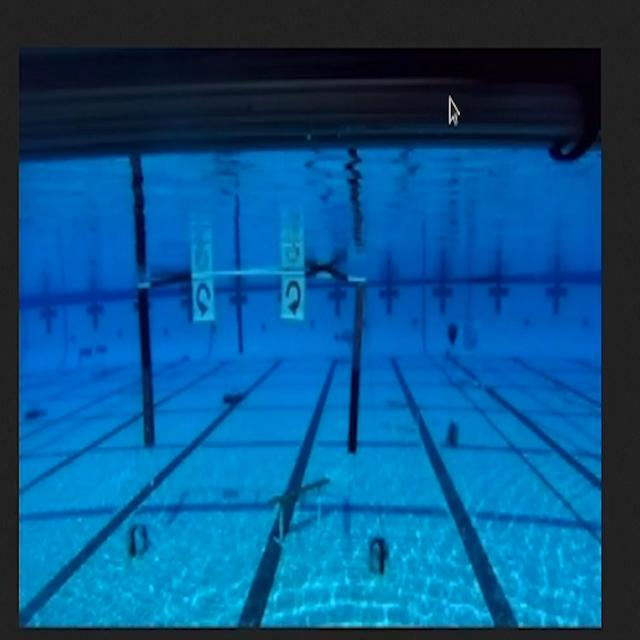Gate: (134, 265, 367, 455)
